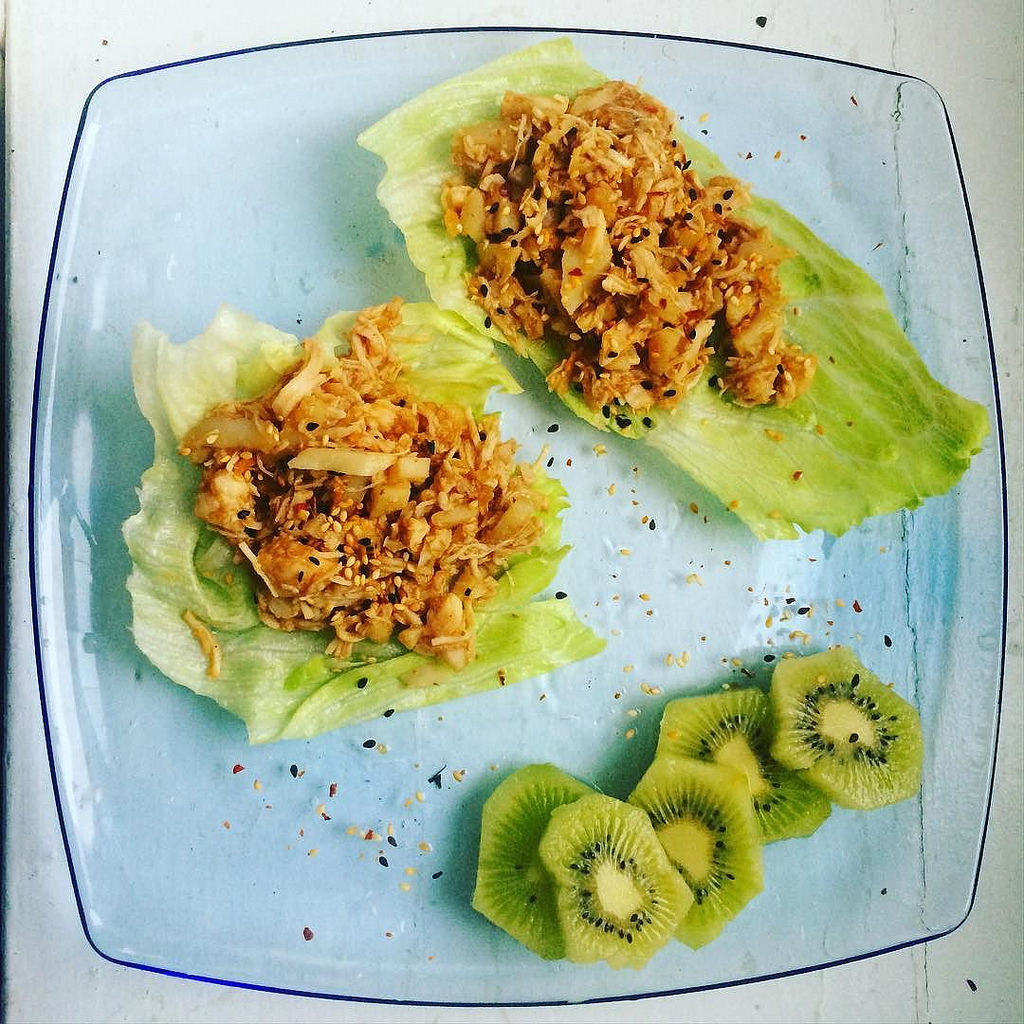chopped lettuce: (752, 268, 968, 525), (199, 640, 427, 732)
